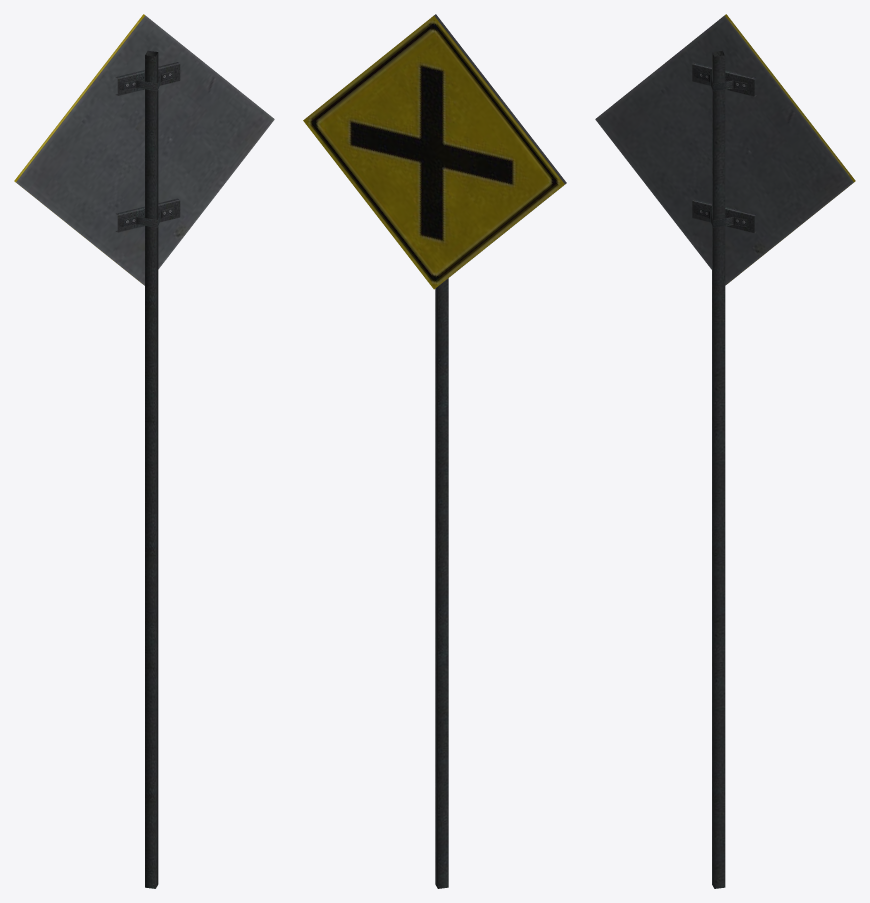
File: Crossroads.glb
3 renders of one model, left to right at view 1: azimuth 30°, elevation 25°; view 2: azimuth 150°, elevation 25°; view 3: azimuth 330°, elevation 25°, orthographic.
Visible parts, largest first — view 1: Crossroads__LOD1; view 2: Crossroads__LOD1; view 3: Crossroads__LOD1.
Part boxes in pixels (x1,y1,x2,y2): Crossroads__LOD1: (14,14,274,888); Crossroads__LOD1: (303,14,566,888); Crossroads__LOD1: (595,14,855,888).
Size of the model in its own units: 0.9743 by 3.11 by 0.0893.
1 material, 1 textured.
